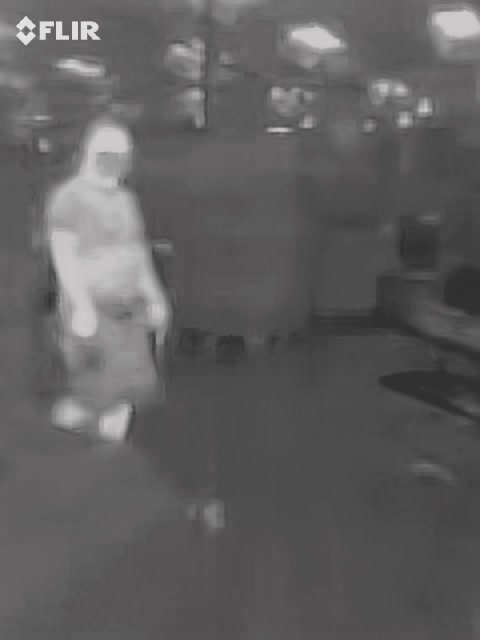head: (79, 117, 135, 186)
